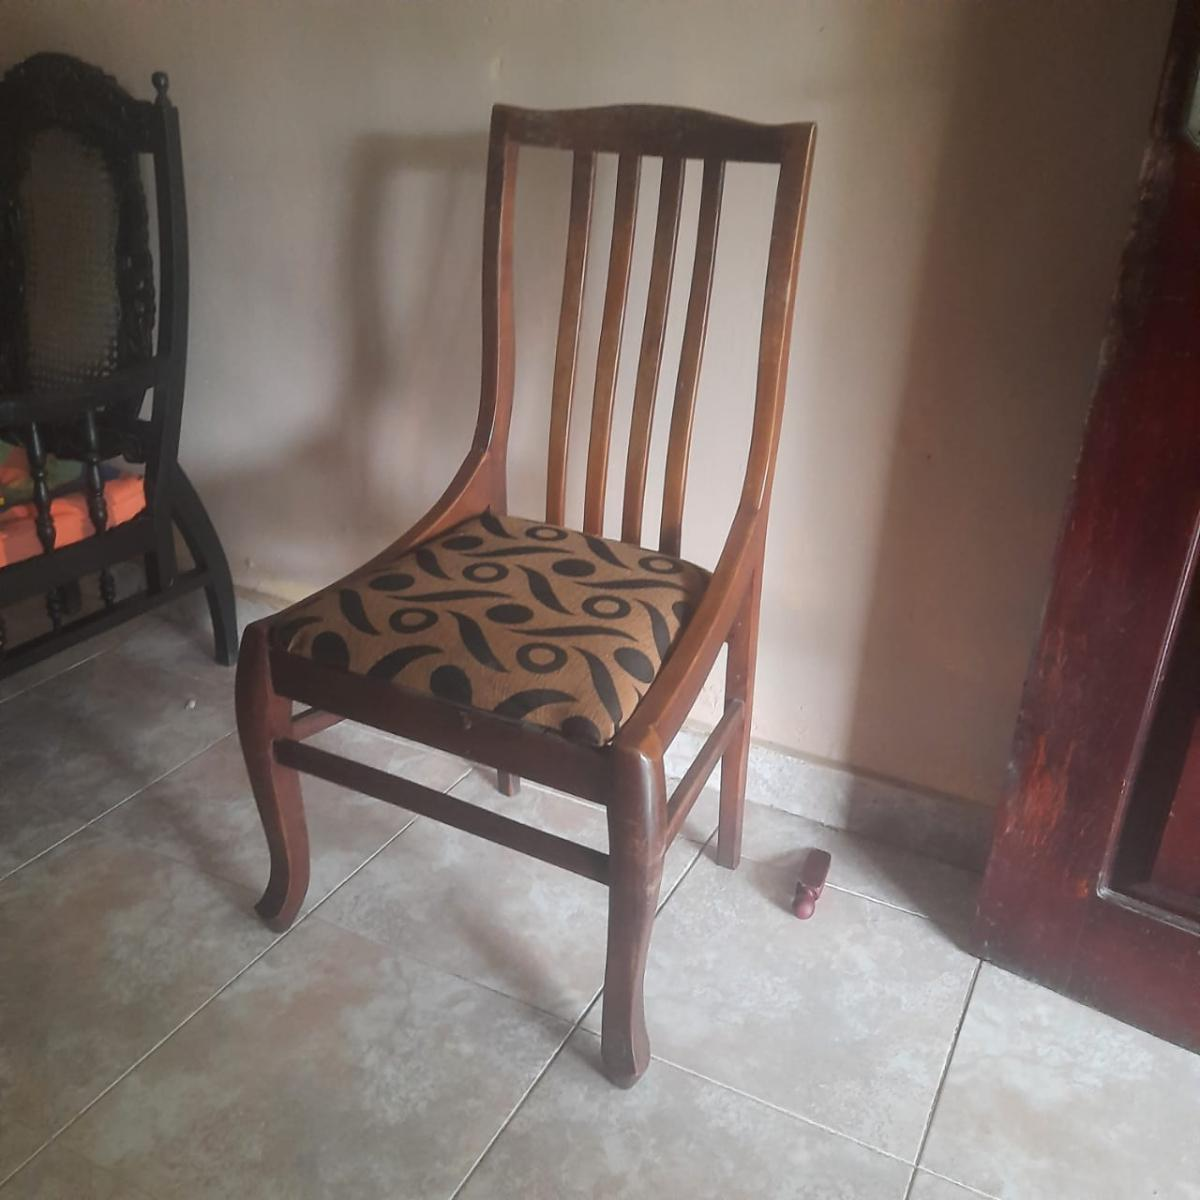Chair: (232, 102, 817, 1086)
